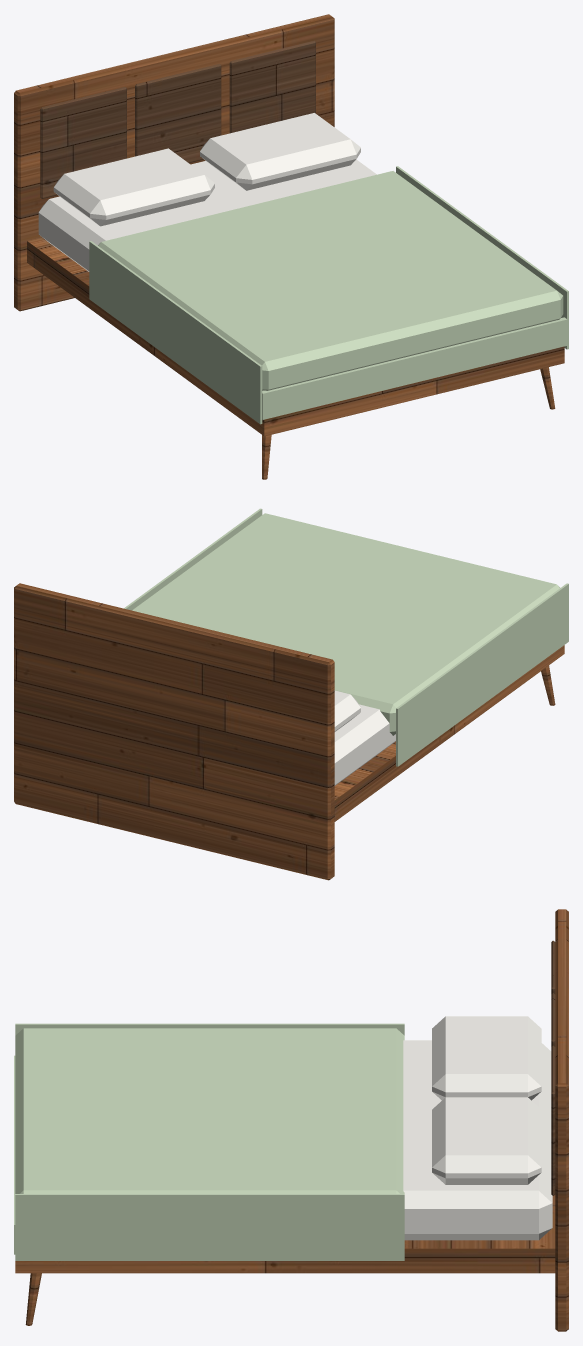
File: bed_g.glb
3 renders of one model, top to bottom at view 1: azimuth 30°, elevation 25°; view 2: azimuth 150°, elevation 25°; view 3: azimuth 270°, elevation 25°, orthographic. The views are drawn at different scales.
Visible parts, largest first — view 1: bed_g_bed_g, bed_g_teak, bed_g_bed_w, bed_g_dkwood; view 2: bed_g_teak, bed_g_bed_g, bed_g_bed_w; view 3: bed_g_bed_g, bed_g_bed_w, bed_g_teak, bed_g_dkwood.
Part boxes in pixels (left/top/right/bottom): bed_g_bed_g: left=89, top=166, right=568, bottom=424; bed_g_teak: left=14, top=14, right=564, bottom=479; bed_g_bed_w: left=38, top=113, right=376, bottom=271; bed_g_dkwood: left=40, top=40, right=315, bottom=198; bed_g_teak: left=14, top=583, right=564, bottom=880; bed_g_bed_g: left=124, top=508, right=568, bottom=766; bed_g_bed_w: left=334, top=690, right=395, bottom=785; bed_g_bed_g: left=14, top=1023, right=404, bottom=1260; bed_g_bed_w: left=403, top=1016, right=552, bottom=1240; bed_g_teak: left=15, top=909, right=568, bottom=1331; bed_g_dkwood: left=551, top=940, right=555, bottom=1195.
Bounding box in the file's own units: 1.52 × 1 × 2.03.
4 materials, 2 textured.
